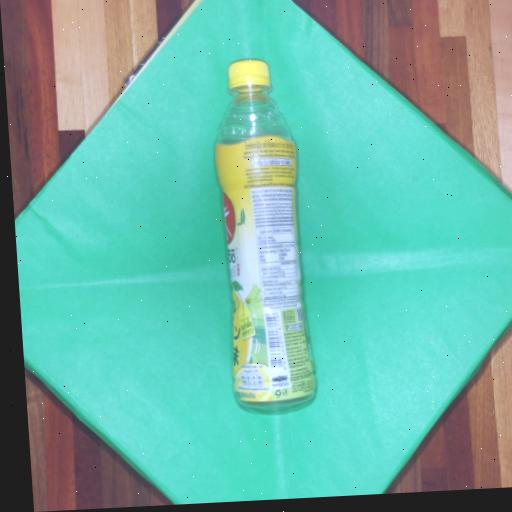bottle: (194, 46, 330, 433)
